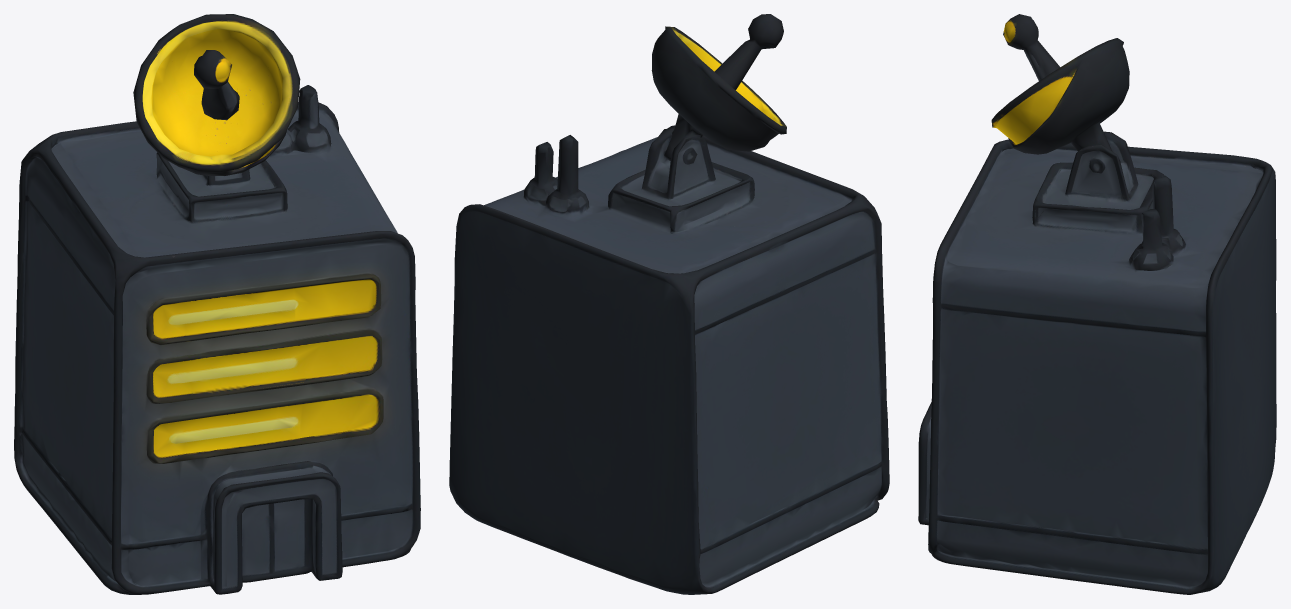
The model's file is set-offers-hq.glb.
The picture shows the model from 3 angles, left to right: view 1: azimuth 30°, elevation 25°; view 2: azimuth 150°, elevation 25°; view 3: azimuth 270°, elevation 25°; orthographic projection. The views are drawn at different scales.
Parts seen in each view (by area): view 1: tripo_node_43801fcb-6d72-4092-804a-068b091588b2; view 2: tripo_node_43801fcb-6d72-4092-804a-068b091588b2; view 3: tripo_node_43801fcb-6d72-4092-804a-068b091588b2.
Boxes of the visible parts, box(x1,y1,x2,y2) form: tripo_node_43801fcb-6d72-4092-804a-068b091588b2: box(14, 14, 420, 594); tripo_node_43801fcb-6d72-4092-804a-068b091588b2: box(449, 14, 889, 594); tripo_node_43801fcb-6d72-4092-804a-068b091588b2: box(918, 14, 1276, 594).
Size of the model in its own units: 0.715 by 1 by 0.6764.
1 material, 1 textured.
